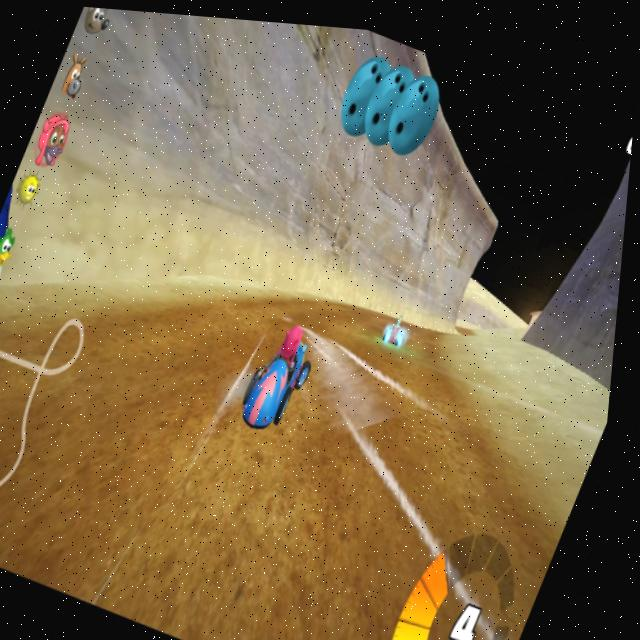enemy_kart: (380, 309, 418, 349)
off_track: (449, 311, 620, 444)
player_kart: (233, 302, 332, 435)
